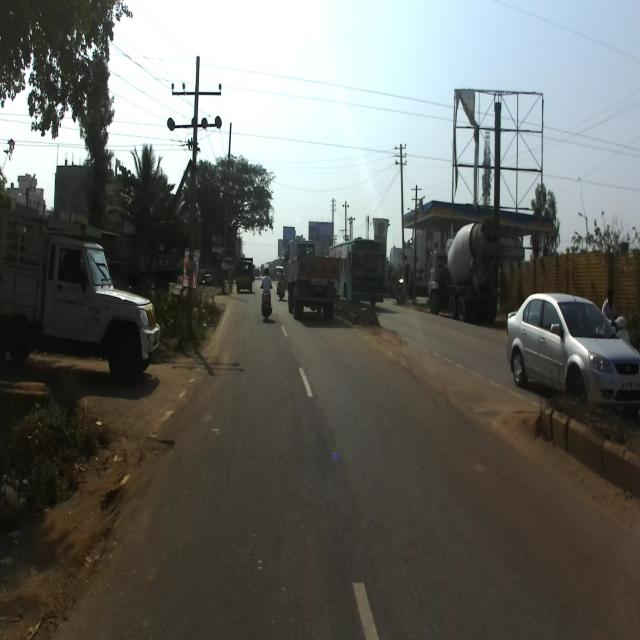Car_Ford: (507, 286, 640, 412)
truck: (0, 201, 162, 382)
